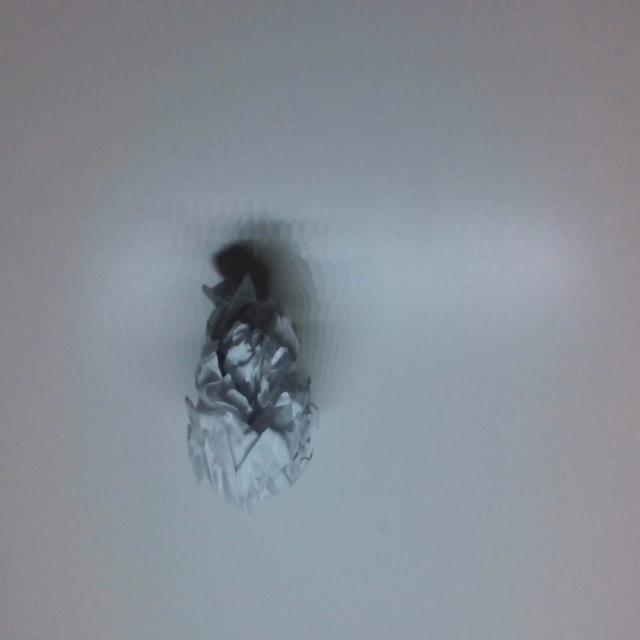Paper: (177, 247, 306, 506)
